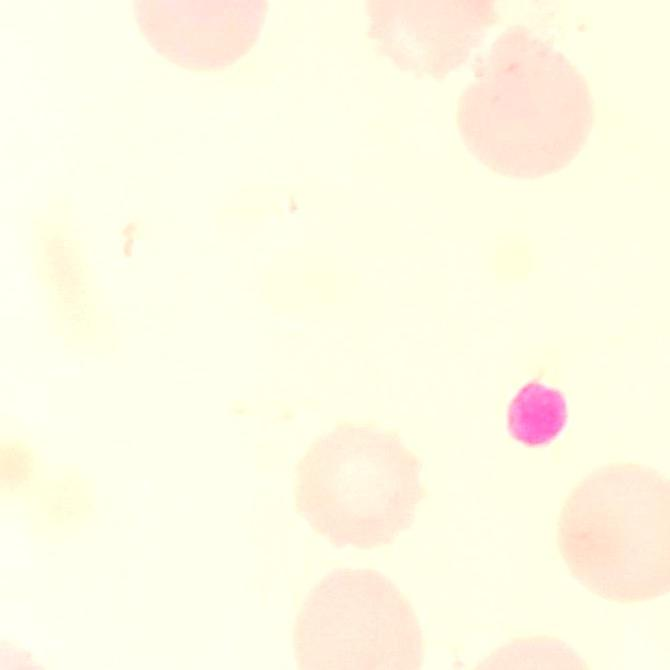Uninfected: (455, 27, 599, 174), (295, 419, 420, 550), (560, 461, 670, 603), (300, 569, 426, 670)
